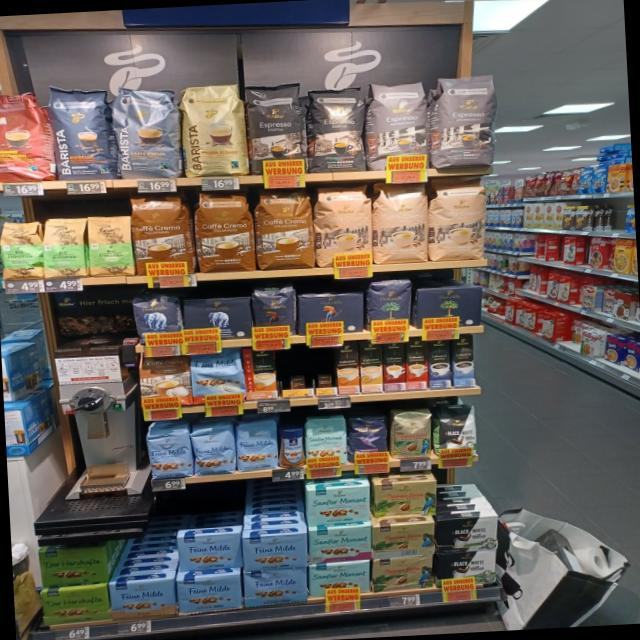AB Bohne: (130, 292, 184, 346)
AB Gemahlen: (182, 296, 254, 344)
Athiopien Bohne: (0, 218, 46, 281)
Athiopien Gemahlen: (86, 212, 136, 278), (41, 214, 88, 278)
BM Bohne: (366, 280, 414, 334)
BM Gemahlen: (414, 285, 485, 330)
BW Bohne: (432, 404, 479, 459)
BW Gemahlen: (436, 516, 500, 554), (434, 550, 496, 588)
Barista CB: (180, 82, 251, 178)
Barista CC: (114, 82, 184, 180)
Barista Espresso: (48, 84, 115, 182)
Barista Kolumbien: (0, 87, 54, 184)
C Fino Bohne: (348, 414, 391, 464)
CC Mild: (428, 175, 489, 261), (314, 182, 375, 267), (370, 182, 430, 265)
CC Vollmundig: (138, 356, 194, 409)
CC Vollmundig 36 Pads: (128, 192, 196, 276), (194, 190, 256, 274), (254, 188, 316, 270)
Colombia BB Bohne: (388, 410, 434, 460)
Colombia BB Gemahlen: (373, 481, 439, 519), (371, 555, 435, 593), (371, 522, 436, 559)
Espresso Aromatisch: (432, 74, 503, 168), (366, 76, 432, 173)
Espresso Kraftig: (244, 82, 309, 176), (306, 84, 368, 175)
FM 36 Pads: (190, 352, 246, 406)
FM Bohne: (146, 426, 193, 478), (191, 424, 236, 476), (236, 419, 280, 472)
FM Gemahlen: (109, 578, 177, 620), (175, 574, 244, 614), (176, 532, 243, 572), (241, 534, 309, 572), (243, 568, 308, 607)
FM Instant: (280, 424, 308, 468)
Herzhatfe Mundig: (40, 547, 110, 588), (39, 588, 110, 626)
LG Bohne: (250, 285, 298, 339)
LG Gemahlen: (296, 292, 366, 337)
SM Bohne: (304, 416, 349, 468)
SM Gemahlen: (308, 486, 372, 526), (308, 526, 374, 564), (309, 562, 372, 596)
Simo CCMild bigpack: (359, 340, 384, 392)
Simo CCVollmundig: (242, 347, 278, 400)
Simo CCVollmundig bigpack: (335, 342, 360, 395)
Simo Es Brazil: (406, 340, 428, 389)
Simo Es Caramel: (382, 342, 407, 391)
Simo Es Kraft: (428, 339, 452, 389)
Simo Es Vanilla: (452, 337, 476, 388)
